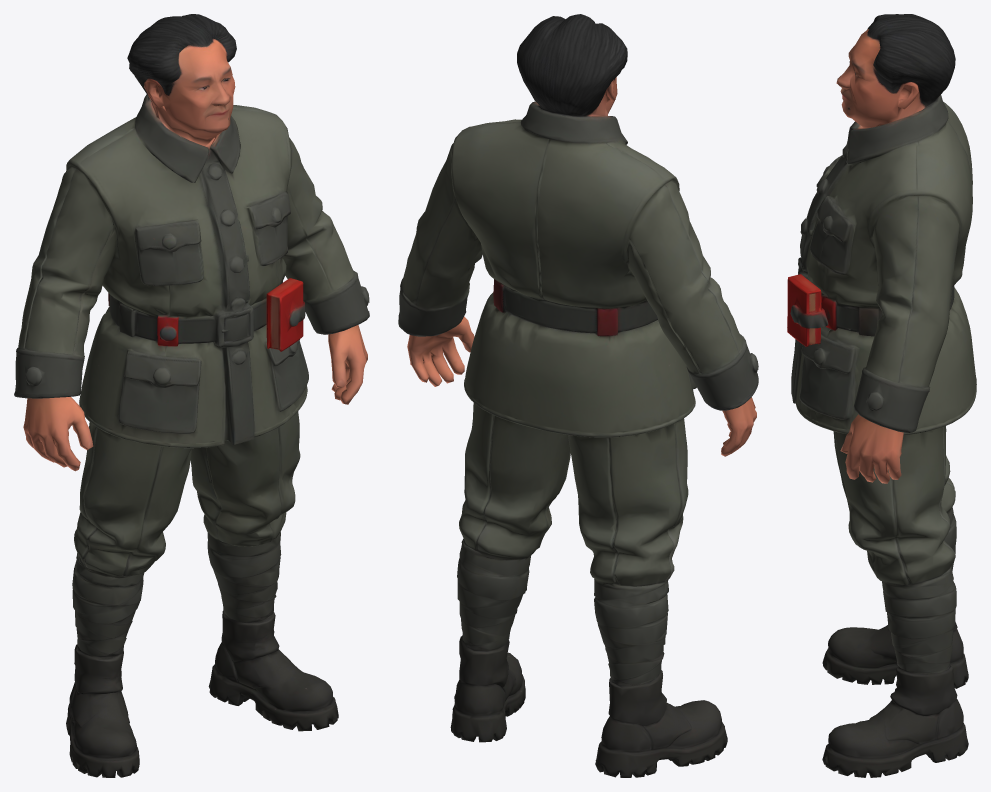
The model's file is mao.glb.
3 views of the same model, side by side, from view 1: azimuth 30°, elevation 25°; view 2: azimuth 150°, elevation 25°; view 3: azimuth 270°, elevation 25° (orthographic). The views are drawn at different scales.
Visible parts, largest first — view 1: tripo_node_f0789cba-dc8c-471e-ad41-3da0f245460a; view 2: tripo_node_f0789cba-dc8c-471e-ad41-3da0f245460a; view 3: tripo_node_f0789cba-dc8c-471e-ad41-3da0f245460a.
Part boxes in pixels (x1=…): tripo_node_f0789cba-dc8c-471e-ad41-3da0f245460a: x1=14, y1=14, x2=369, y2=777; tripo_node_f0789cba-dc8c-471e-ad41-3da0f245460a: x1=398, y1=14, x2=758, y2=777; tripo_node_f0789cba-dc8c-471e-ad41-3da0f245460a: x1=787, y1=14, x2=976, y2=777.
Size of the model in its own units: 0.5007 by 0.9798 by 0.2406.
Materials: 1 (1 with a texture image).
